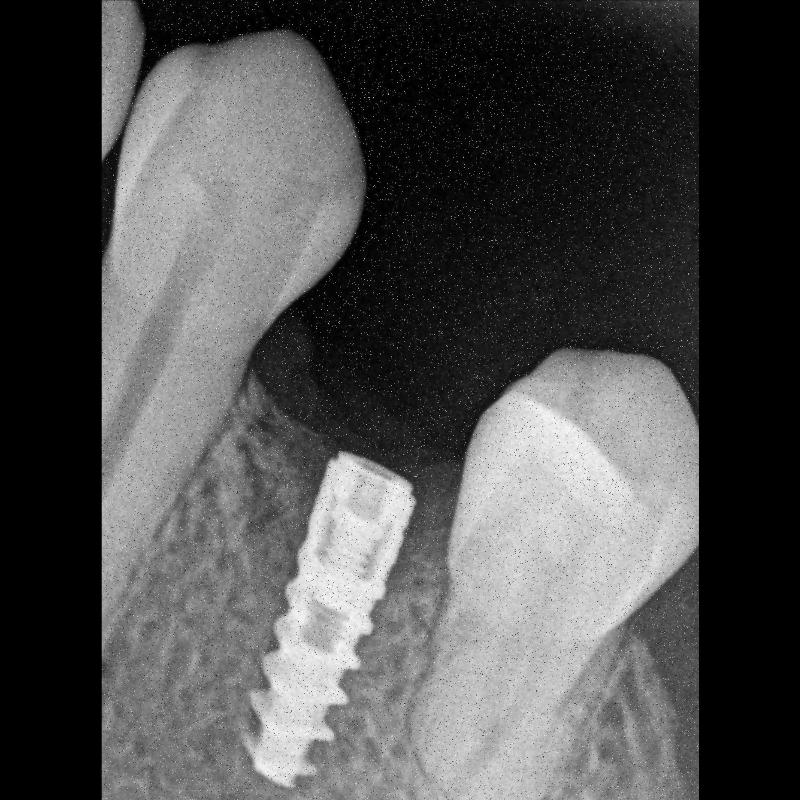ADIN: (236, 432, 435, 786)
